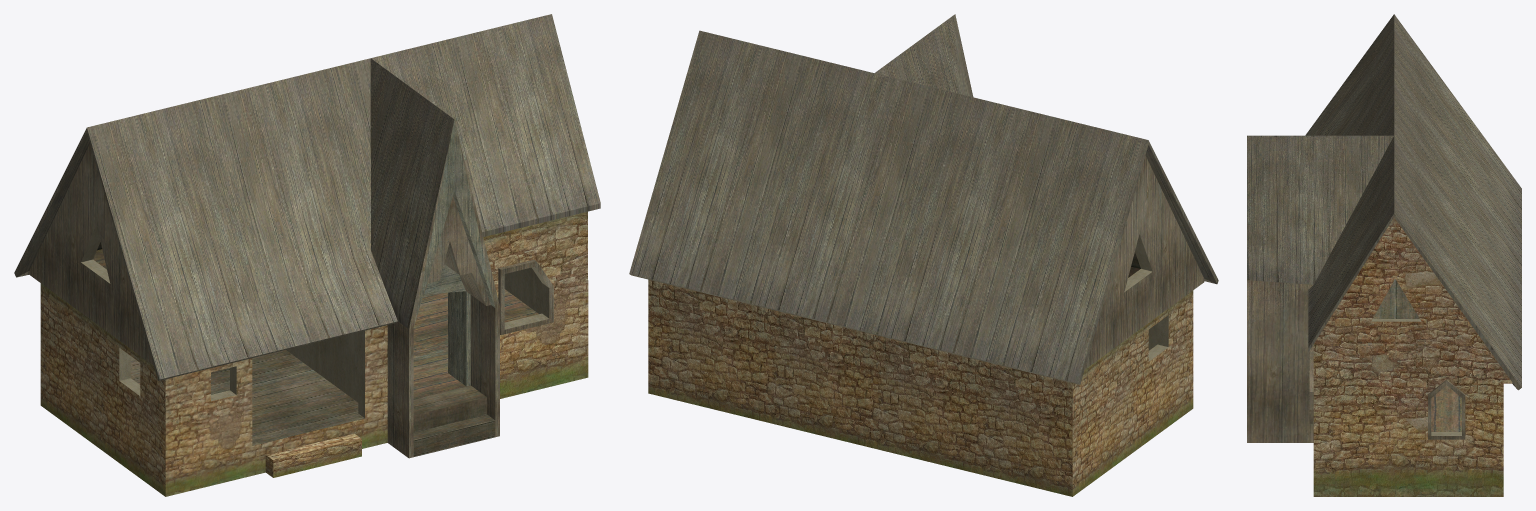
File: House14.glb
3 views of the same model, side by side, from view 1: azimuth 30°, elevation 25°; view 2: azimuth 150°, elevation 25°; view 3: azimuth 270°, elevation 25° (orthographic). The views are drawn at different scales.
Parts seen in each view (by area): view 1: House14-col; view 2: House14-col; view 3: House14-col.
Boxes of the visible parts, left/top/right/bottom form: House14-col: left=14, top=14, right=600, bottom=496; House14-col: left=629, top=14, right=1218, bottom=496; House14-col: left=1247, top=14, right=1521, bottom=496.
Size of the model in its own units: 10.66 by 7.18 by 6.22.
10 materials, 10 textured.
